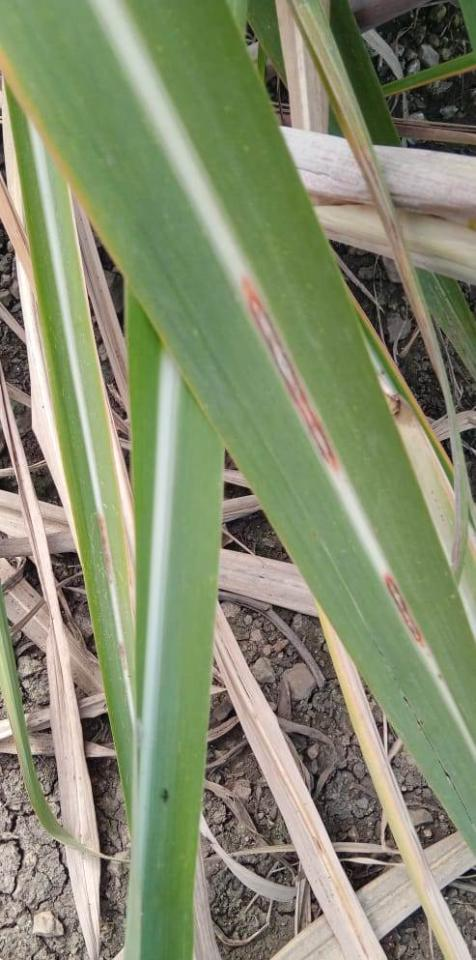RedRot: (241, 269, 344, 479), (383, 569, 427, 651), (95, 511, 114, 587), (117, 642, 127, 671)
